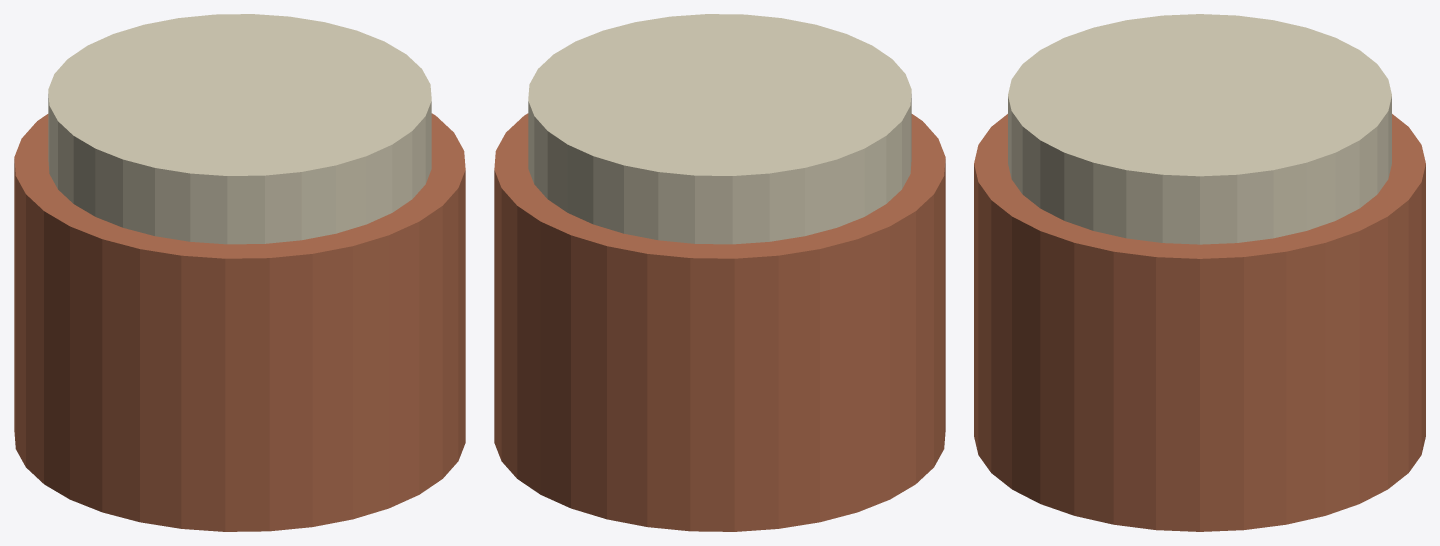
Rendered from Pinball_PopBumper.glb.
3 views of the same model, side by side, from view 1: azimuth 30°, elevation 25°; view 2: azimuth 150°, elevation 25°; view 3: azimuth 270°, elevation 25° (orthographic).
Visible parts, largest first — view 1: Body, Cap; view 2: Body, Cap; view 3: Body, Cap.
Boxes of the visible parts, x1,y1,x2,y2 form: Body: (14,113,465,531); Cap: (48,14,431,244); Body: (494,113,945,531); Cap: (528,14,911,244); Body: (974,114,1425,531); Cap: (1008,14,1391,244).
Size of the model in its own units: 0.0672 by 0.056 by 0.0672.
